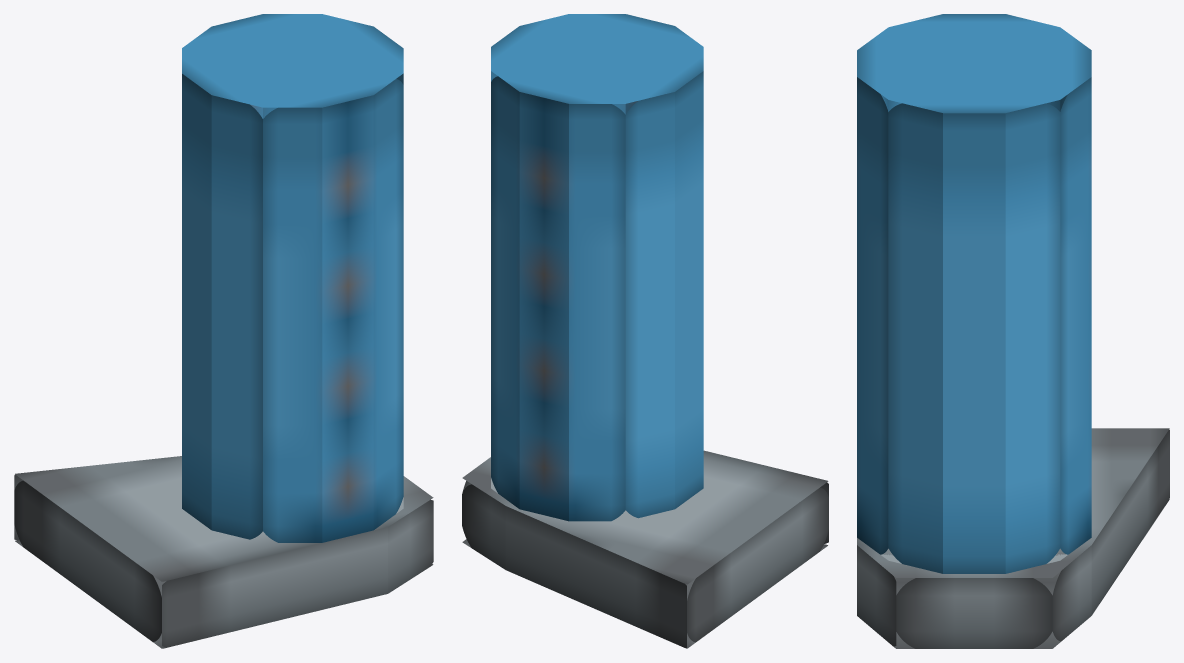
File: leg-regular.dae
3 renders of one model, left to right at view 1: azimuth 30°, elevation 25°; view 2: azimuth 150°, elevation 25°; view 3: azimuth 270°, elevation 25°, orthographic. The views are drawn at different scales.
Parts seen in each view (by area): view 1: leg; view 2: leg; view 3: leg.
Boxes of the visible parts, x1,y1,x2,y2 form: leg: [14, 14, 433, 648]; leg: [462, 14, 828, 648]; leg: [857, 14, 1169, 648].
Bounding box in the file's own units: 0.5664 × 0.9375 × 0.5.
Materials: 1 (1 with a texture image).
